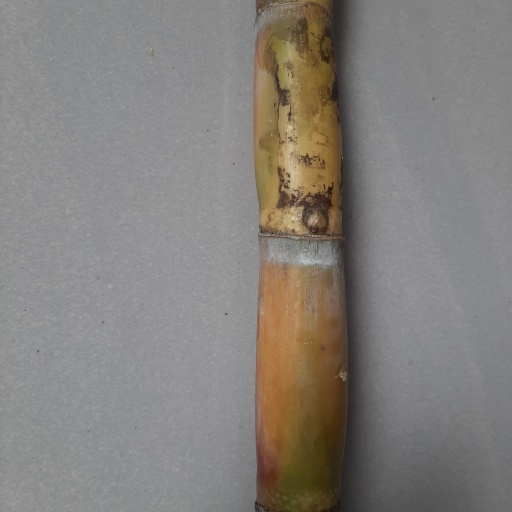Bud: (304, 208, 332, 234)
